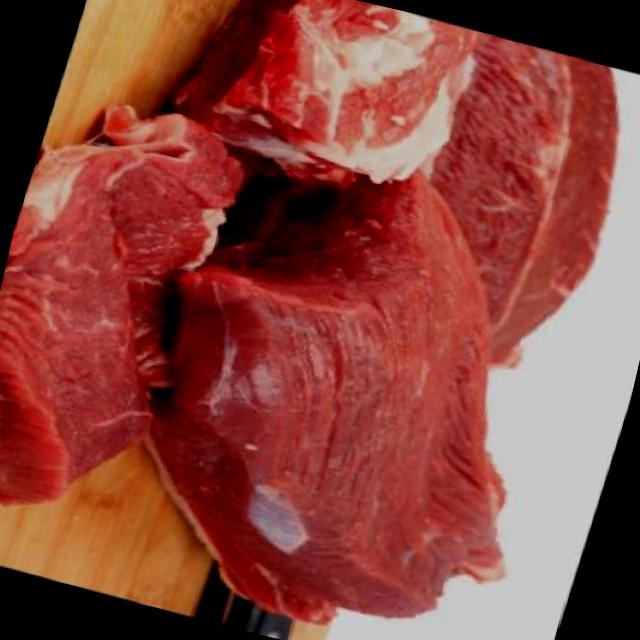beef: (89, 105, 618, 640), (0, 80, 263, 552), (363, 24, 640, 394), (146, 0, 490, 223)
